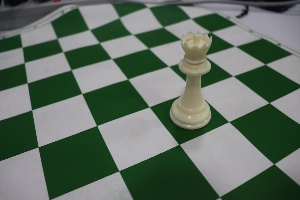white_queen: (171, 29, 218, 134)
